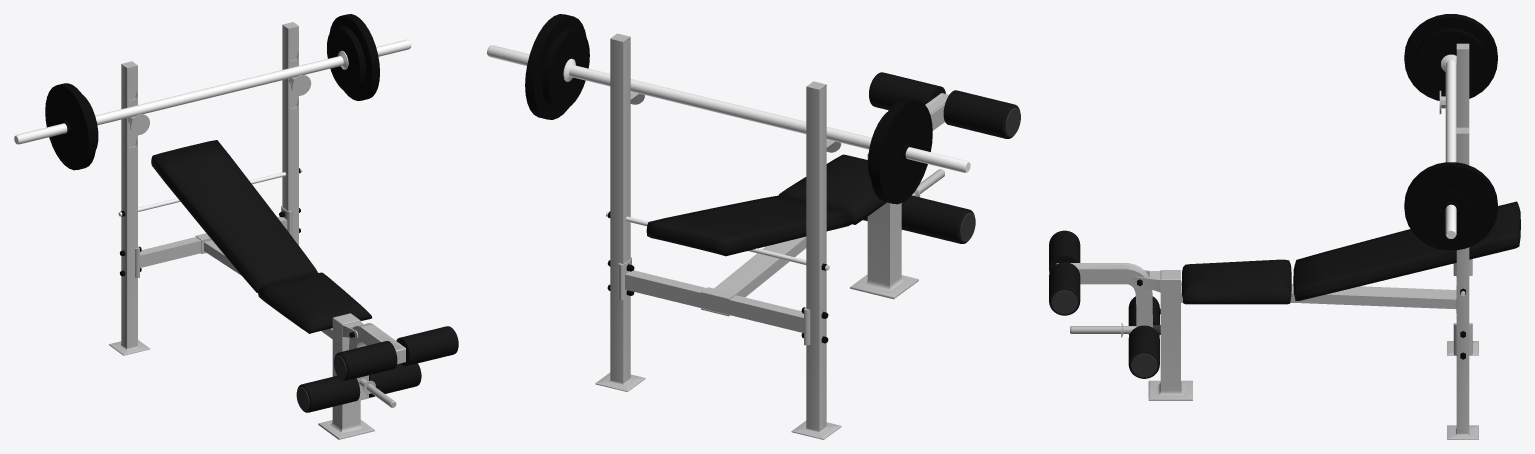
The model's file is weight.glb.
The picture shows the model from 3 angles, left to right: view 1: azimuth 30°, elevation 25°; view 2: azimuth 150°, elevation 25°; view 3: azimuth 270°, elevation 25°; orthographic projection. The views are drawn at different scales.
Parts seen in each view (by area): view 1: Box001__0; view 2: Box001__0; view 3: Box001__0.
Part boxes in pixels (x1=…): Box001__0: x1=14, y1=14, x2=458, y2=439; Box001__0: x1=487, y1=14, x2=1020, y2=439; Box001__0: x1=1049, y1=14, x2=1520, y2=439.
Size of the model in its own units: 196 by 135 by 191.
Materials: 1 (1 with a texture image).
